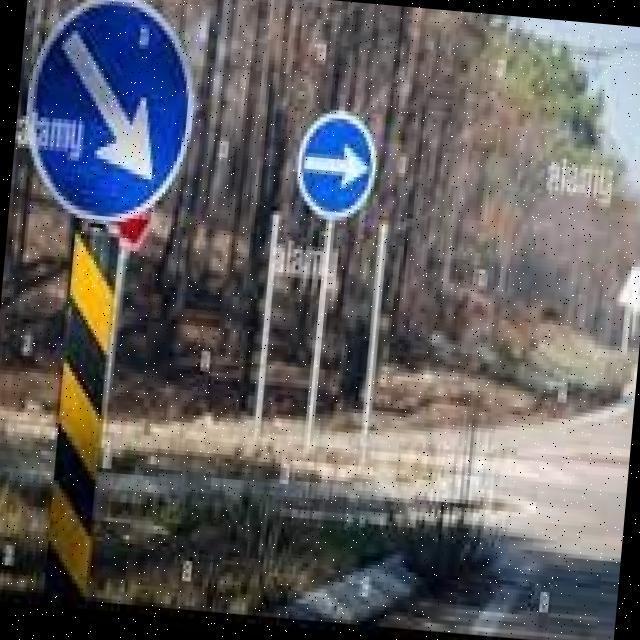compulsory_keep_right: (15, 0, 208, 229), (287, 108, 392, 228)
